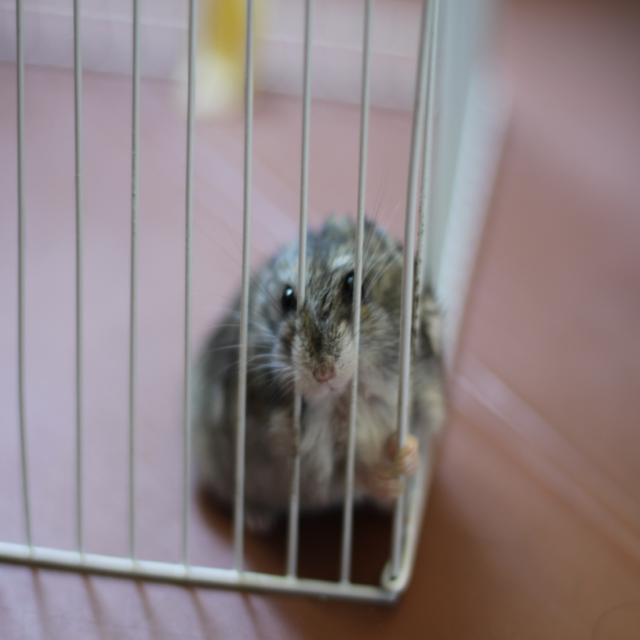rat: (182, 191, 454, 537)
